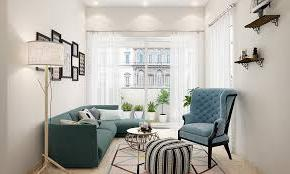chair: (178, 87, 238, 167), (147, 139, 196, 174)
light: (25, 41, 65, 174), (190, 0, 201, 9), (91, 1, 100, 7), (144, 0, 151, 7)
sofa: (42, 101, 144, 169)
table: (125, 126, 159, 151)
